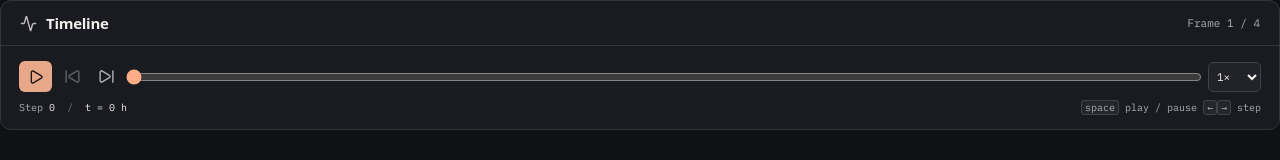
Scenario: uses the saved run units on the scrubber and clamps the final partial frame to simulated duration
This screenshot has width=1280, height=160.
Set the slider named "Frame scrubber" to "3" at point(1194, 76), box [126,64,1202,90]
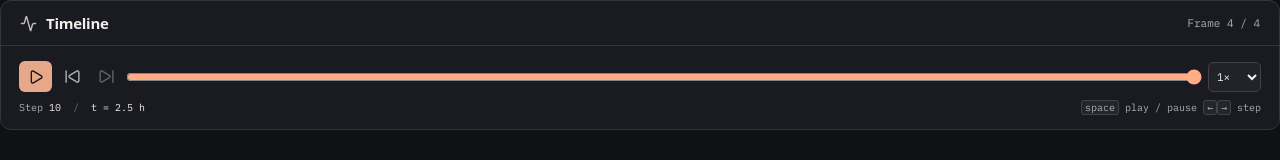
expect the text "t = 2.5 h" is shown: met, box [91,101,145,114]
